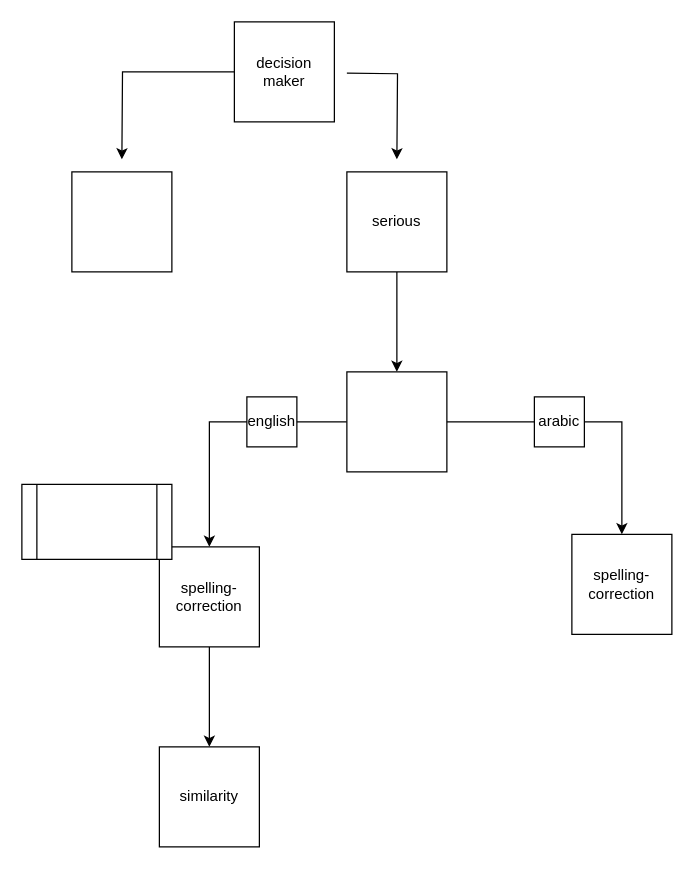
This 694x869 diagram has some shape labels left out. The shapes that lost their labels are listed below. From the top down, each one's box as (x1, y1, x2, y2) in pixels, then its label:
(71, 171, 172, 272): non-serious
(346, 371, 447, 472): OCR
(21, 483, 172, 559): medical-data
